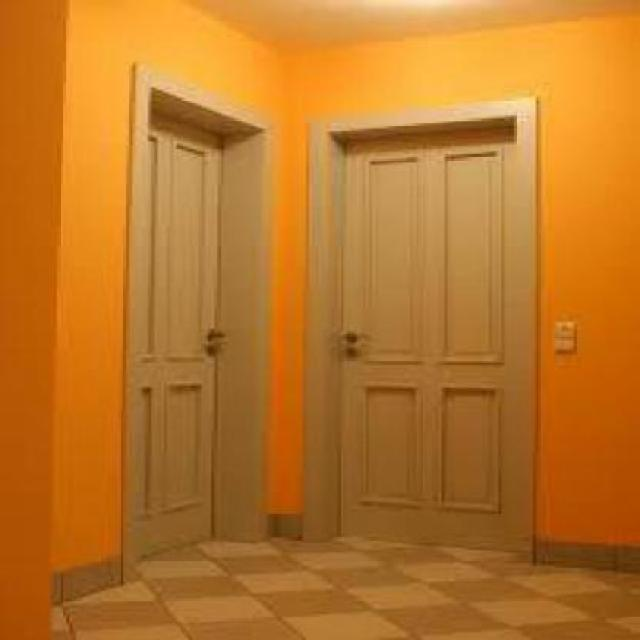door_handle: (337, 329, 373, 346)
